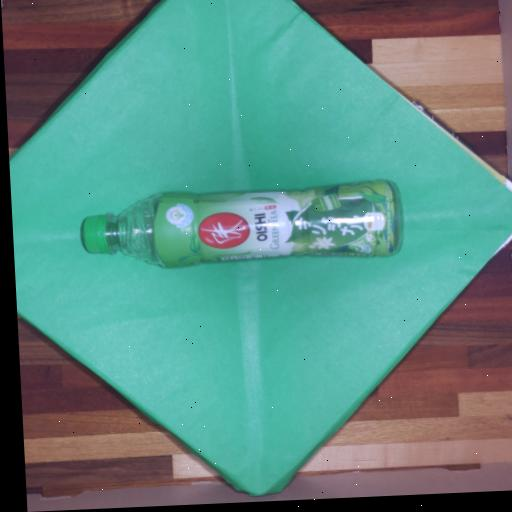bottle: (82, 180, 400, 267)
